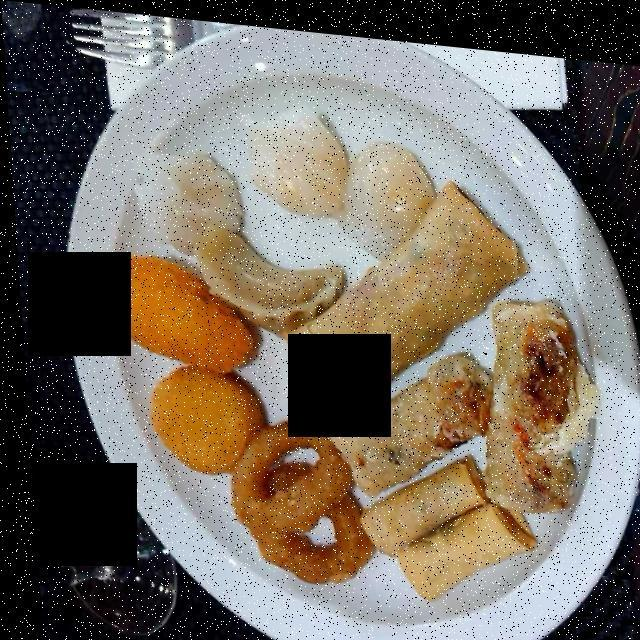fish: (93, 238, 250, 476)
spring-roll-fried: (277, 176, 578, 612)
